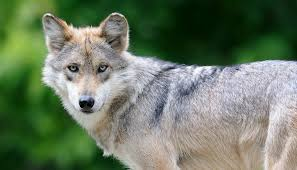Lobo: (27, 9, 286, 164)
